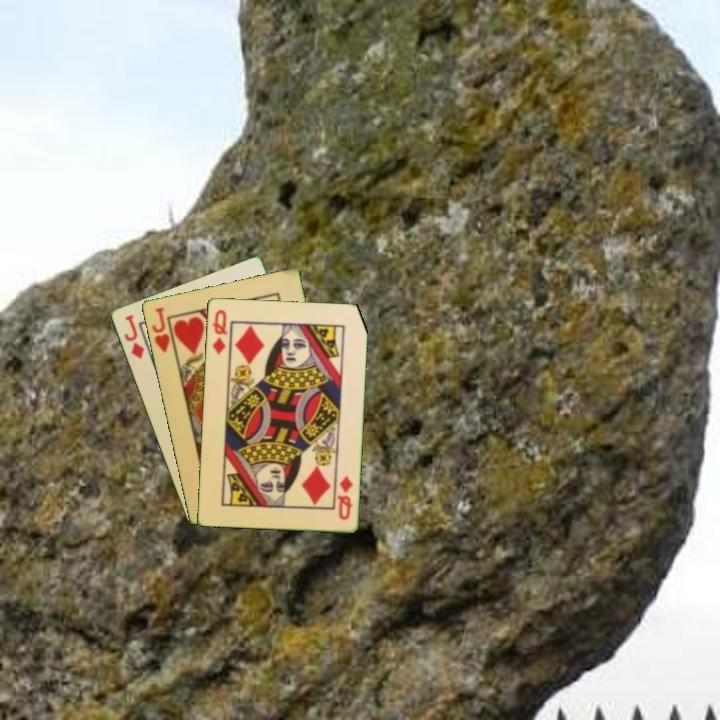Jd: (120, 311, 147, 362)
Jh: (148, 304, 178, 358)
Qd: (209, 306, 230, 357), (334, 472, 355, 523)
